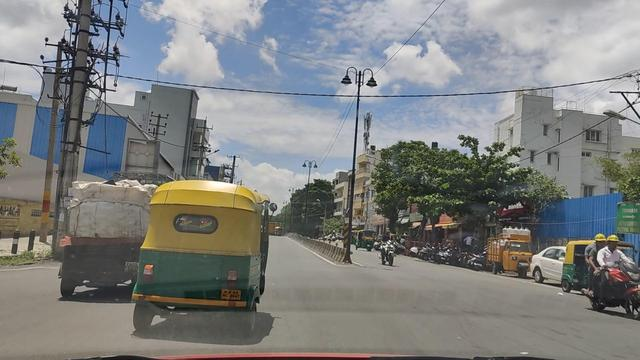LMV: (150, 183, 275, 340), (64, 180, 136, 303)
